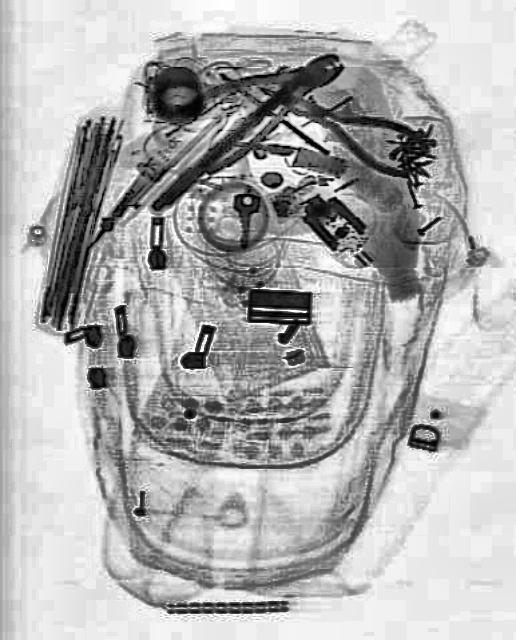Pliers: (174, 25, 354, 177), (254, 60, 423, 182)
